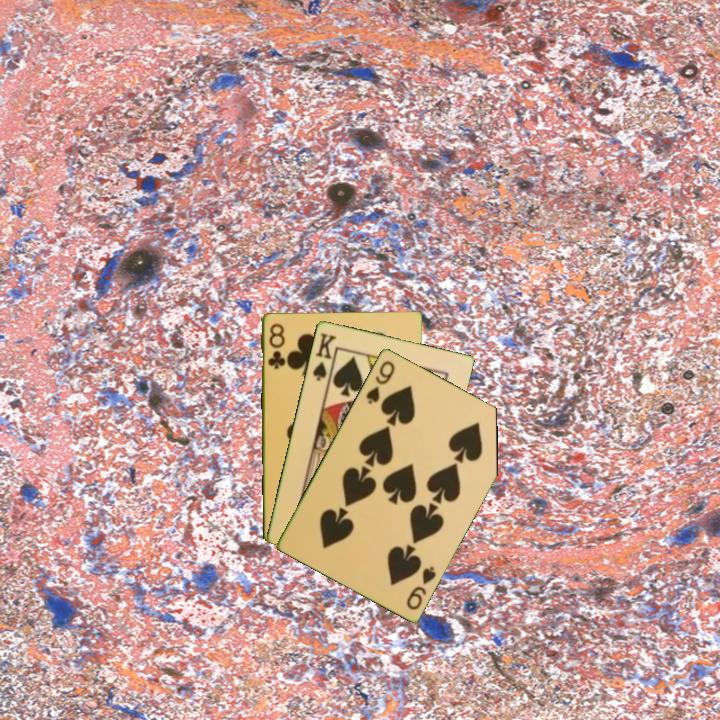8c: (264, 320, 287, 371)
9s: (402, 562, 439, 613), (362, 357, 398, 407)
Ks: (309, 329, 339, 383)
